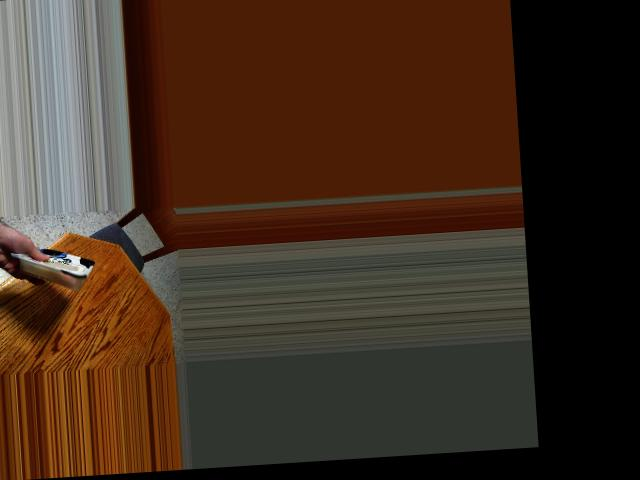cheese: (17, 231, 93, 297)
